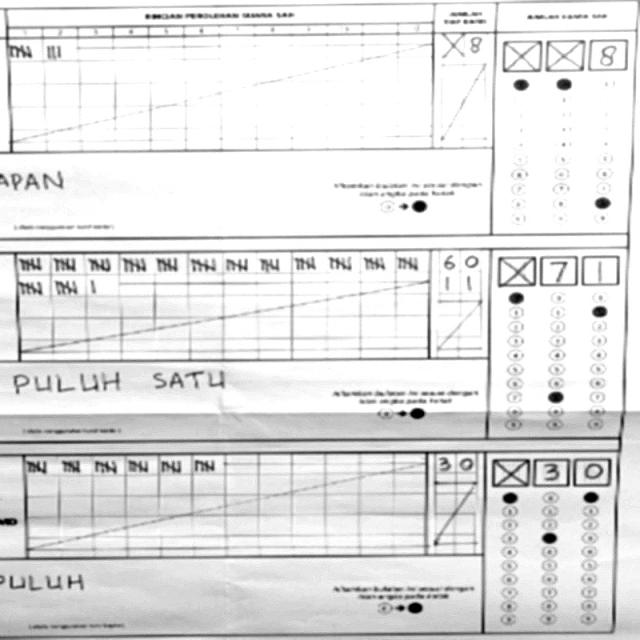Suara: (484, 256, 624, 290), (491, 40, 628, 72), (481, 452, 609, 486)
